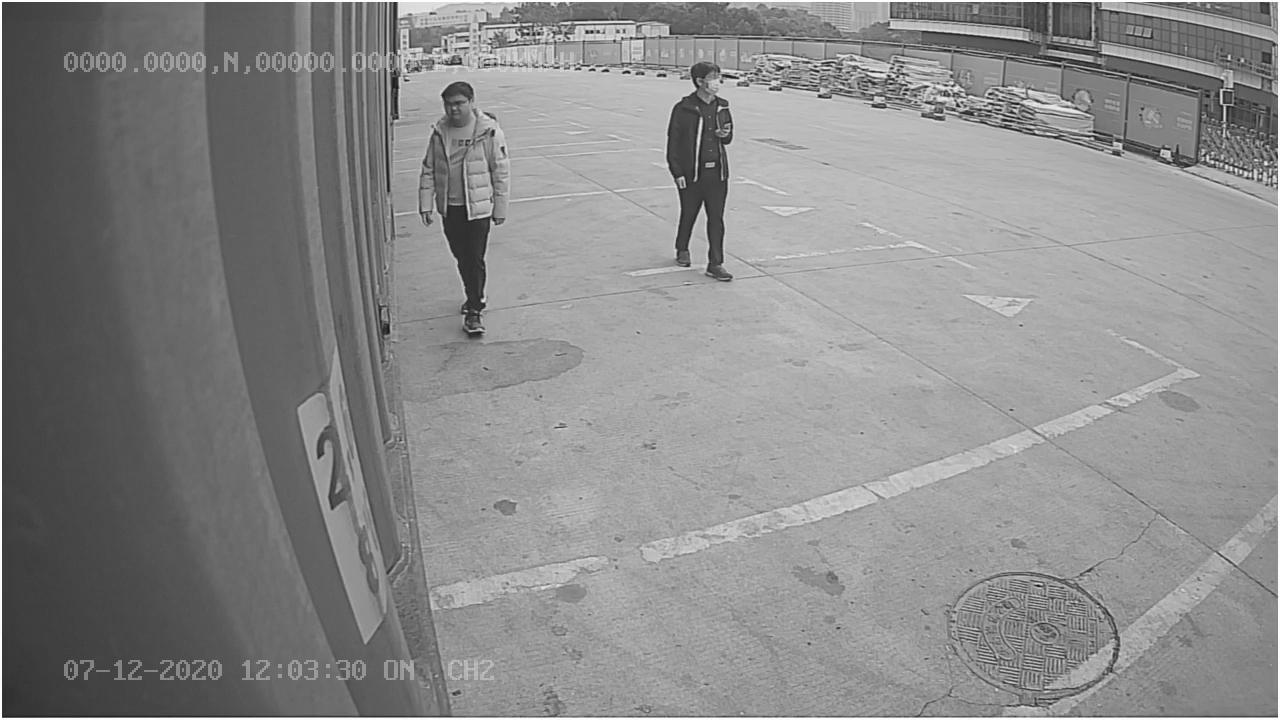person: (412, 78, 511, 339), (656, 61, 746, 283)
